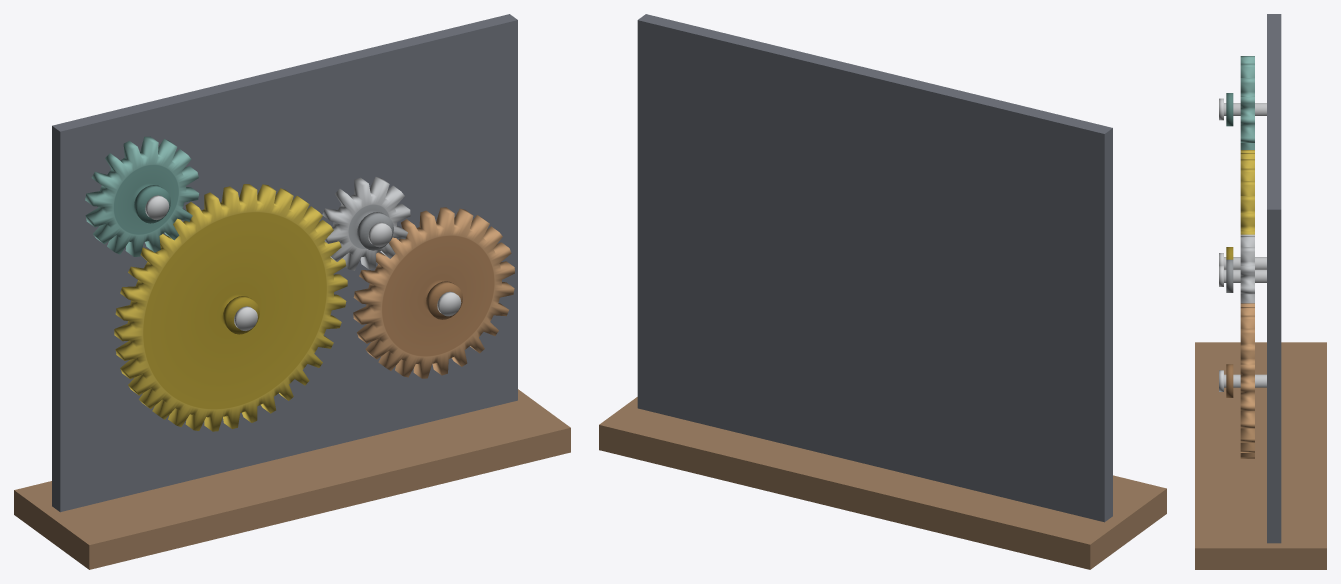
File: gears.glb
3 renders of one model, left to right at view 1: azimuth 30°, elevation 25°; view 2: azimuth 150°, elevation 25°; view 3: azimuth 270°, elevation 25°, orthographic. The views are drawn at different scales.
Parts seen in each view (by area): view 1: frame, gear · big, gear · medium, gear · top, gear · small; view 2: frame; view 3: frame, gear · medium, gear · top, gear · big, gear · small.
Boxes of the visible parts, x1=… form: frame: x1=14, y1=14, x2=570, y2=569; gear · big: x1=114, y1=184, x2=347, y2=431; gear · medium: x1=353, y1=207, x2=514, y2=378; gear · top: x1=85, y1=136, x2=198, y2=256; gear · small: x1=322, y1=177, x2=410, y2=270; frame: x1=599, y1=14, x2=1166, y2=569; frame: x1=1195, y1=14, x2=1326, y2=569; gear · medium: x1=1226, y1=303, x2=1254, y2=458; gear · top: x1=1226, y1=56, x2=1254, y2=149; gear · big: x1=1226, y1=150, x2=1254, y2=259; gear · small: x1=1226, y1=234, x2=1254, y2=303.
Size of the model in its own units: 0.4065 by 0.327 by 0.11.
